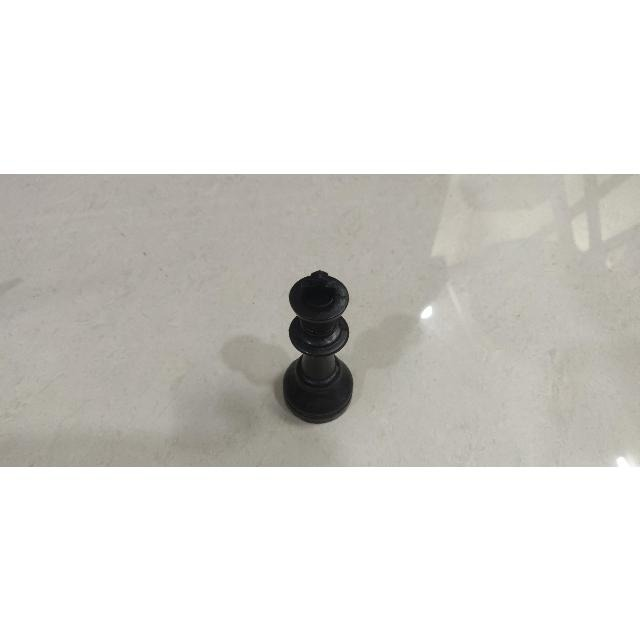black-king: (280, 267, 357, 425)
